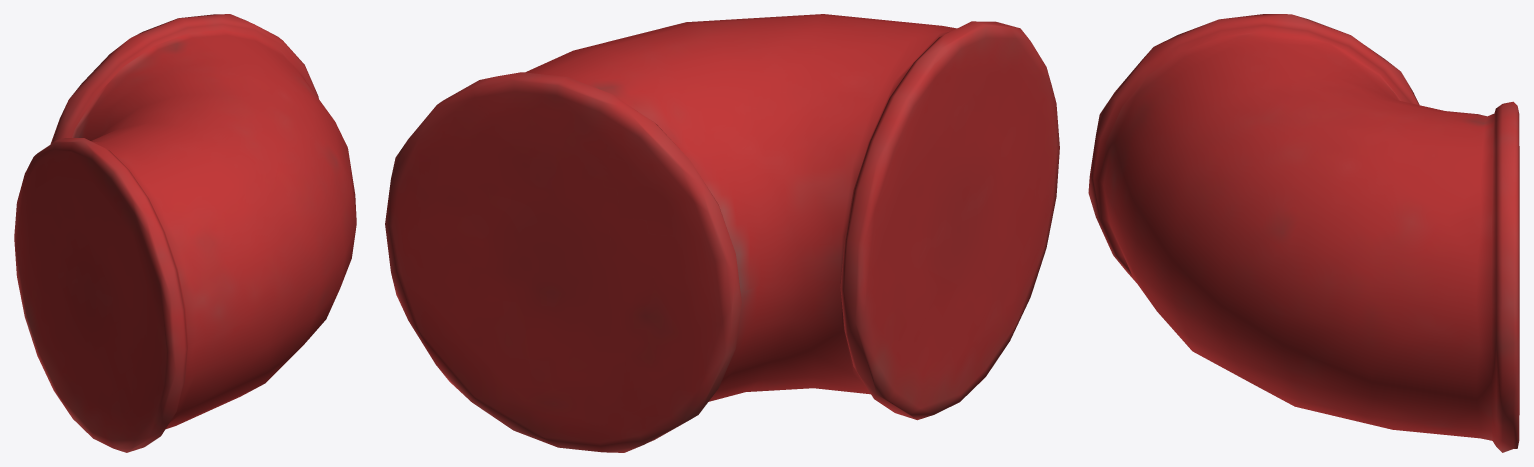
Rendered from SM_Overhead_Utilities05.fbx.
3 renders of one model, left to right at view 1: azimuth 30°, elevation 25°; view 2: azimuth 150°, elevation 25°; view 3: azimuth 270°, elevation 25°, orthographic. The views are drawn at different scales.
Parts seen in each view (by area): view 1: SM_Overhead_Utilities05_LOD0; view 2: SM_Overhead_Utilities05_LOD0; view 3: SM_Overhead_Utilities05_LOD0.
Boxes of the visible parts, left/top/right/bottom form: SM_Overhead_Utilities05_LOD0: left=14, top=14, right=356, bottom=452; SM_Overhead_Utilities05_LOD0: left=385, top=14, right=1059, bottom=452; SM_Overhead_Utilities05_LOD0: left=1088, top=14, right=1519, bottom=452.
Bounding box in the file's own units: 16.79 × 16.84 × 13.63.
